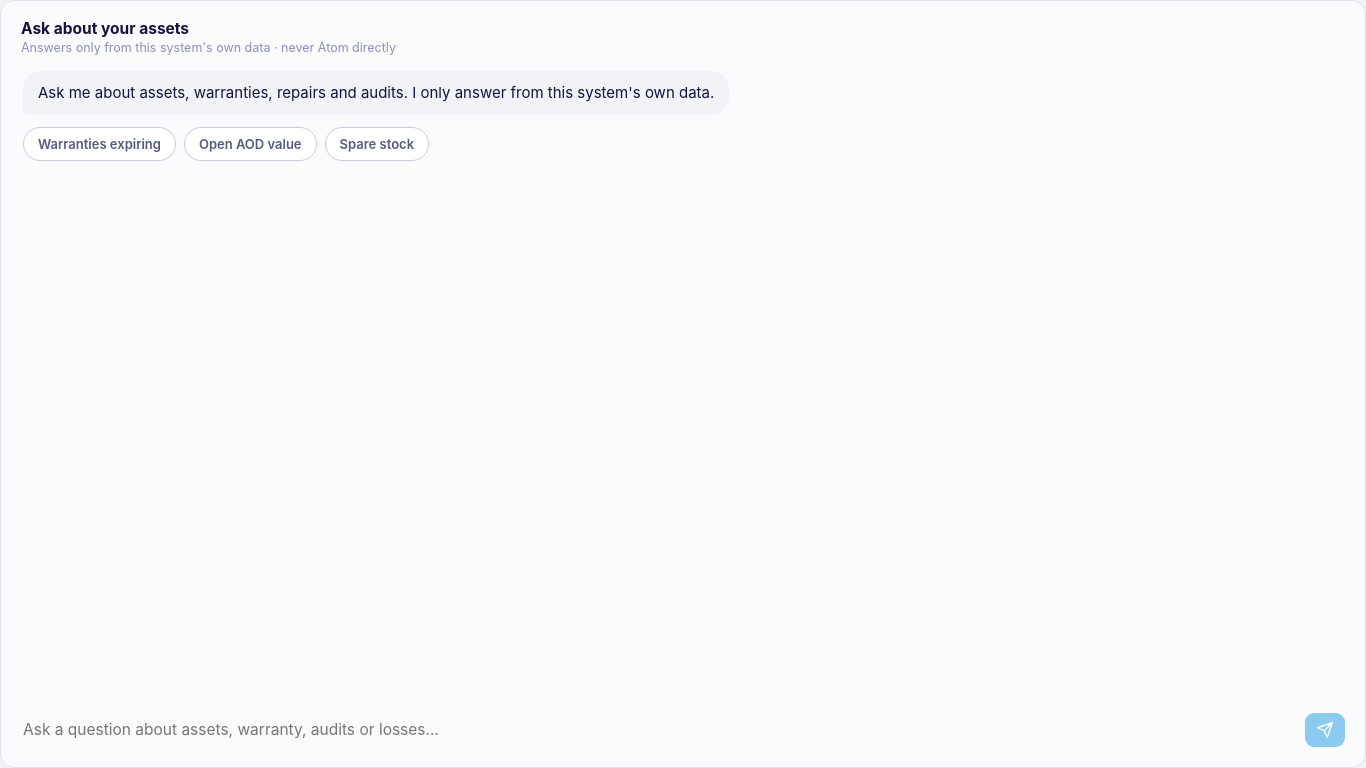
ChatPanel › shows an asset as a card of facts with its recent history
The width and height of the screenshot is (1366, 768).
In the field named "Your question": x=658, y=730 left=21, top=710, right=1295, bottom=749, type "Tell me about AST-0001"
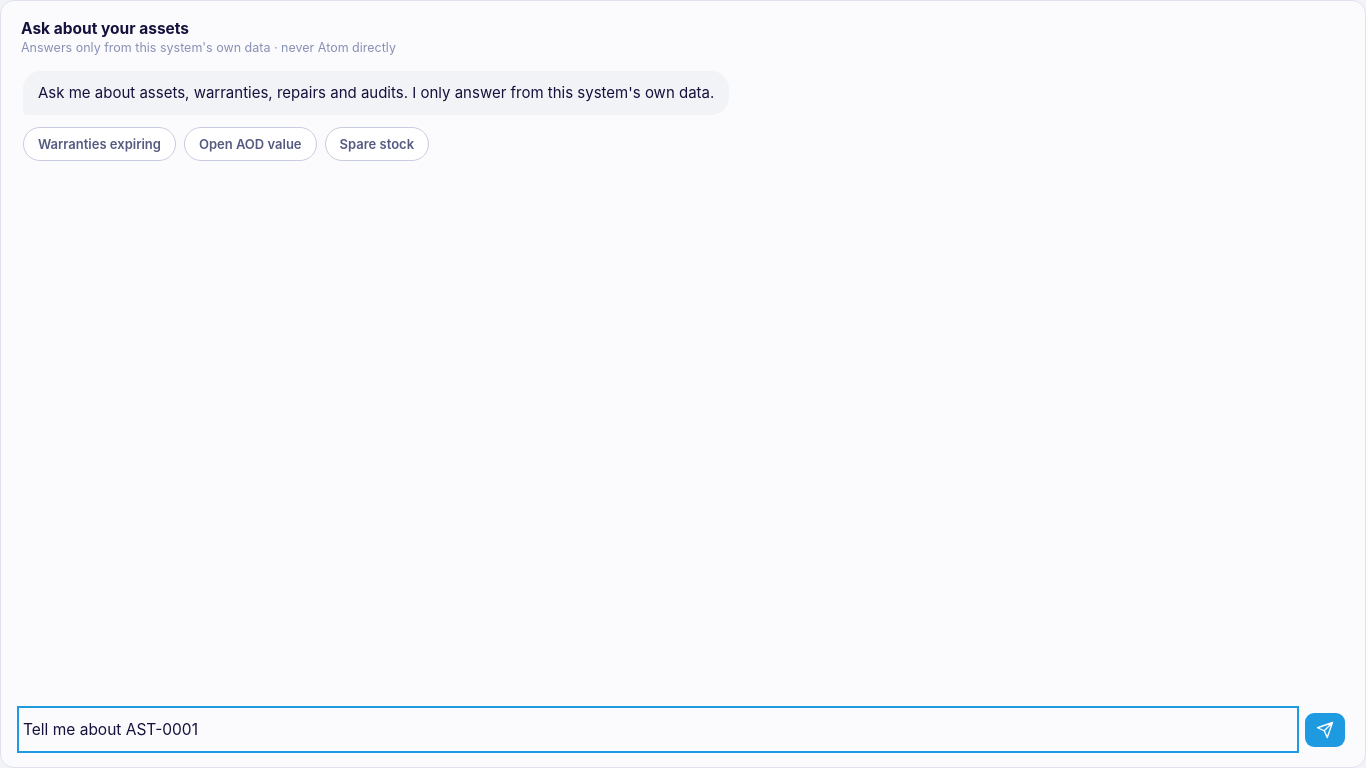
Click the button named "Send question": x=1325, y=730 left=1305, top=712, right=1345, bottom=746
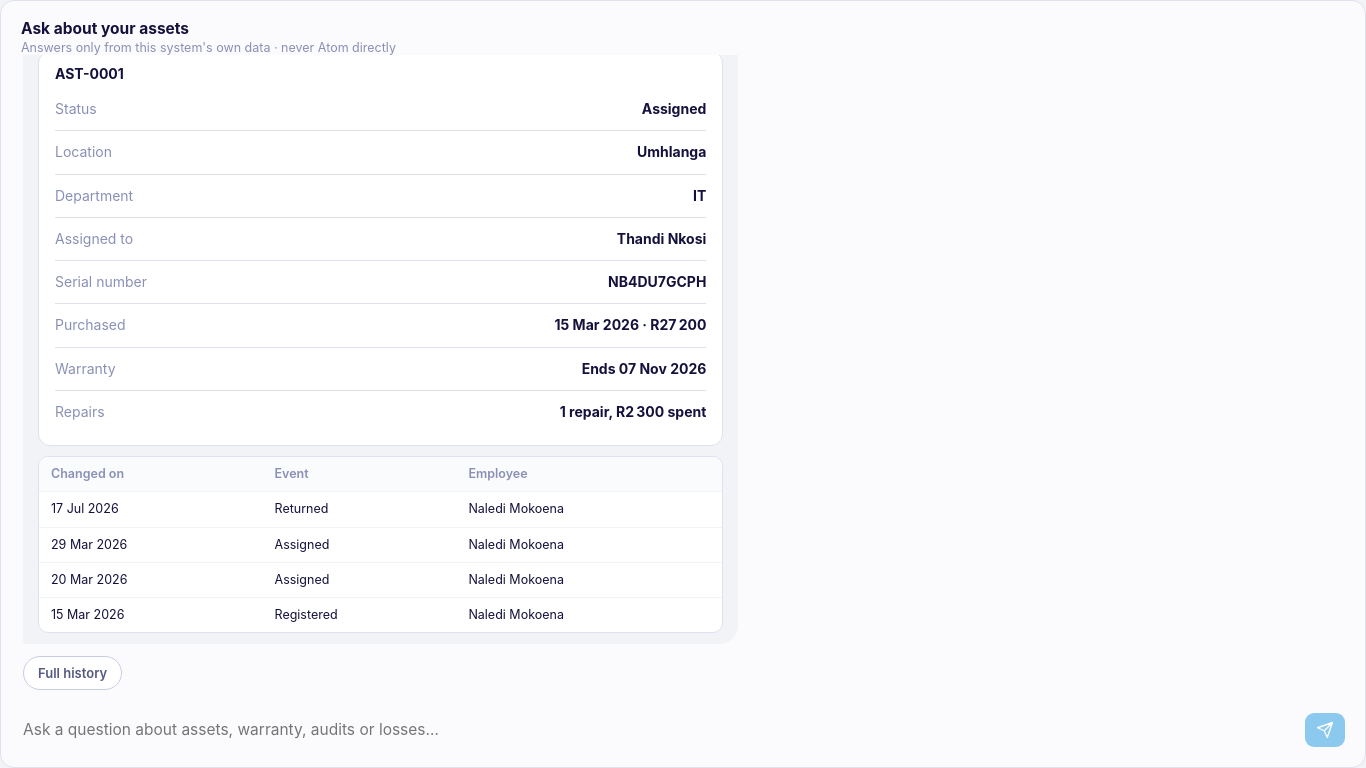
Check: the text "Status" is shown, box left=55, top=99, right=97, bottom=119
Check: the text "Location" is shown, box left=55, top=142, right=112, bottom=162
Check: the text "Department" is shown, box left=55, top=186, right=133, bottom=206
